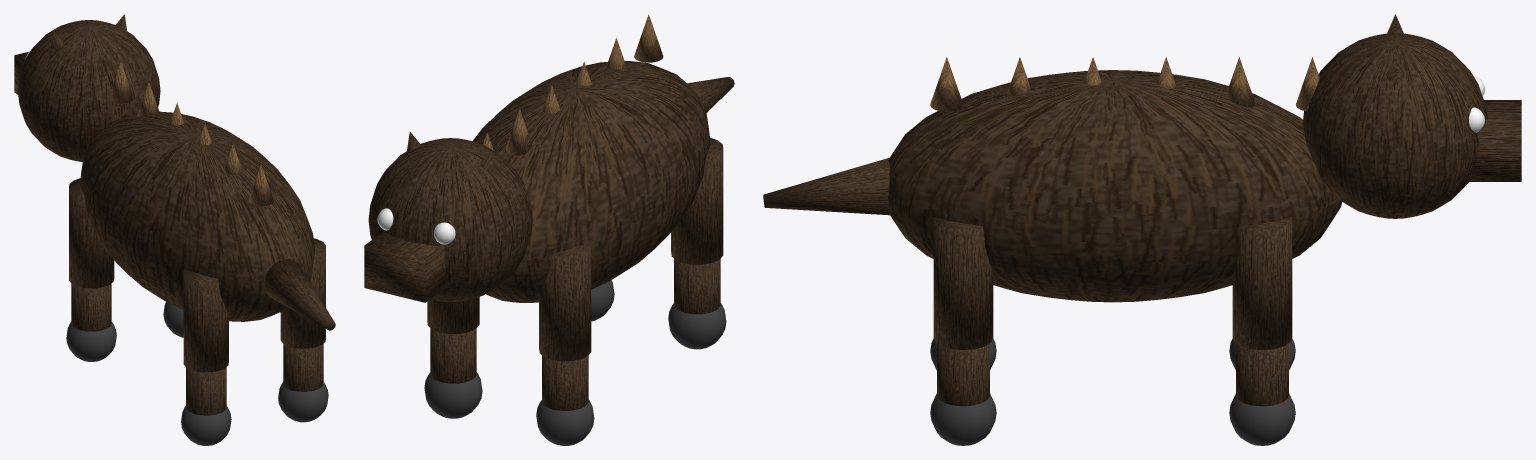
The model's file is razorback.glb.
3 views of the same model, side by side, from view 1: azimuth 30°, elevation 25°; view 2: azimuth 150°, elevation 25°; view 3: azimuth 270°, elevation 25° (orthographic). The views are drawn at different scales.
Parts seen in each view (by area): view 1: Body, Head, LegUpper, LegUpper.001, Tail, LegUpper.002, LegLower, LegLower.001, LegLower.002, Paw.001, Paw.002, Paw (+5 smaller); view 2: Body, Head, LegUpper.001, Snout, LegUpper, LegLower, LegLower.001, LegLower.003, Paw.003, Paw, Paw.001, LegUpper.003 (+6 smaller); view 3: Body, Head, LegUpper.002, LegUpper.003, Tail, Snout, LegLower.002, LegLower.003, Paw.002, Paw.003, Spike, Spike.004.
Boxes of the visible parts, x1,y1,x2,y2 form: Body: (80,111,314,321); Head: (18,20,160,161); LegUpper: (183,269,228,372); LegUpper.001: (69,178,114,288); Tail: (265,259,335,330); LegUpper.002: (280,238,325,348); LegLower: (186,367,226,415); LegLower.001: (71,283,111,331); LegLower.002: (283,343,323,391); Paw.001: (66,322,116,361); Paw.002: (278,382,328,422); Paw: (181,406,231,445); Body: (472,61,710,302); Head: (368,138,532,302); LegUpper.001: (539,242,591,361); Snout: (364,231,449,302); LegUpper: (671,137,723,264); LegLower: (674,259,720,314); LegLower.001: (542,355,588,410); LegLower.003: (430,328,476,383); Paw.003: (424,372,482,418); Paw: (668,303,726,349); Paw.001: (536,400,594,445); LegUpper.003: (427,297,479,333); Body: (888,70,1341,302); Head: (1302,33,1487,218); LegUpper.002: (933,217,993,350); LegUpper.003: (1232,217,1292,350); Tail: (763,157,889,215); Snout: (1467,100,1521,181); LegLower.002: (937,343,989,406); LegLower.003: (1236,343,1288,406); Paw.002: (930,393,996,445); Paw.003: (1229,393,1295,445); Spike: (930,57,963,111); Spike.004: (1226,57,1255,107).
Bounding box in the file's own units: 0.5535 × 0.986 × 1.8.
4 materials, 2 textured.
